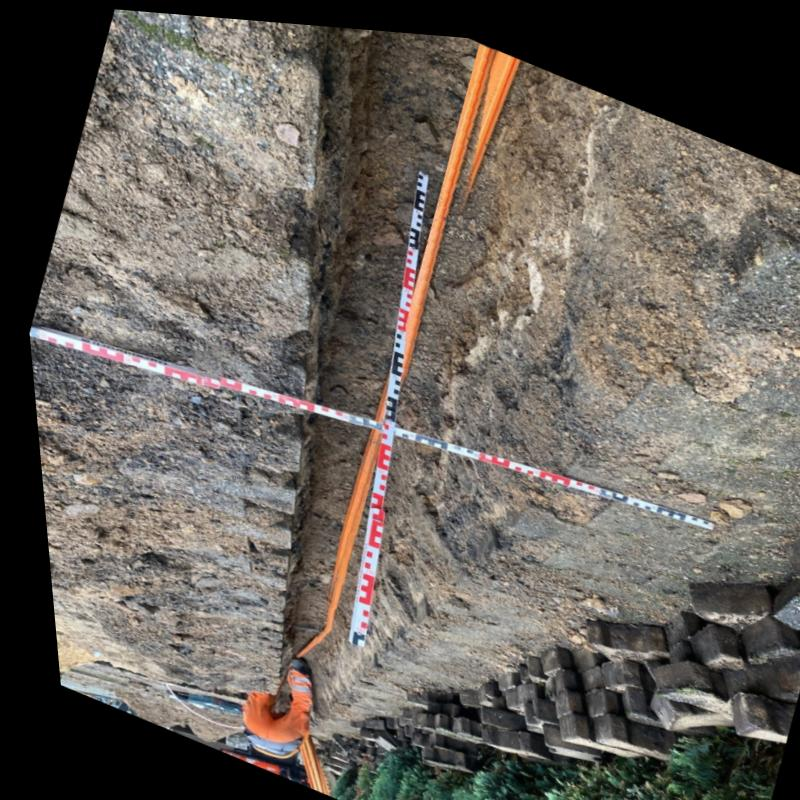Orang-Speednetrohrchen: (397, 36, 498, 369), (304, 392, 385, 639)
